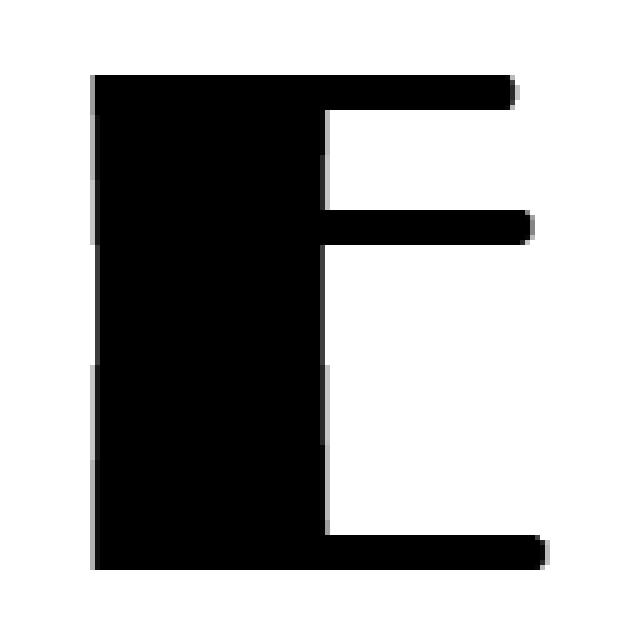E: (85, 65, 545, 570)
